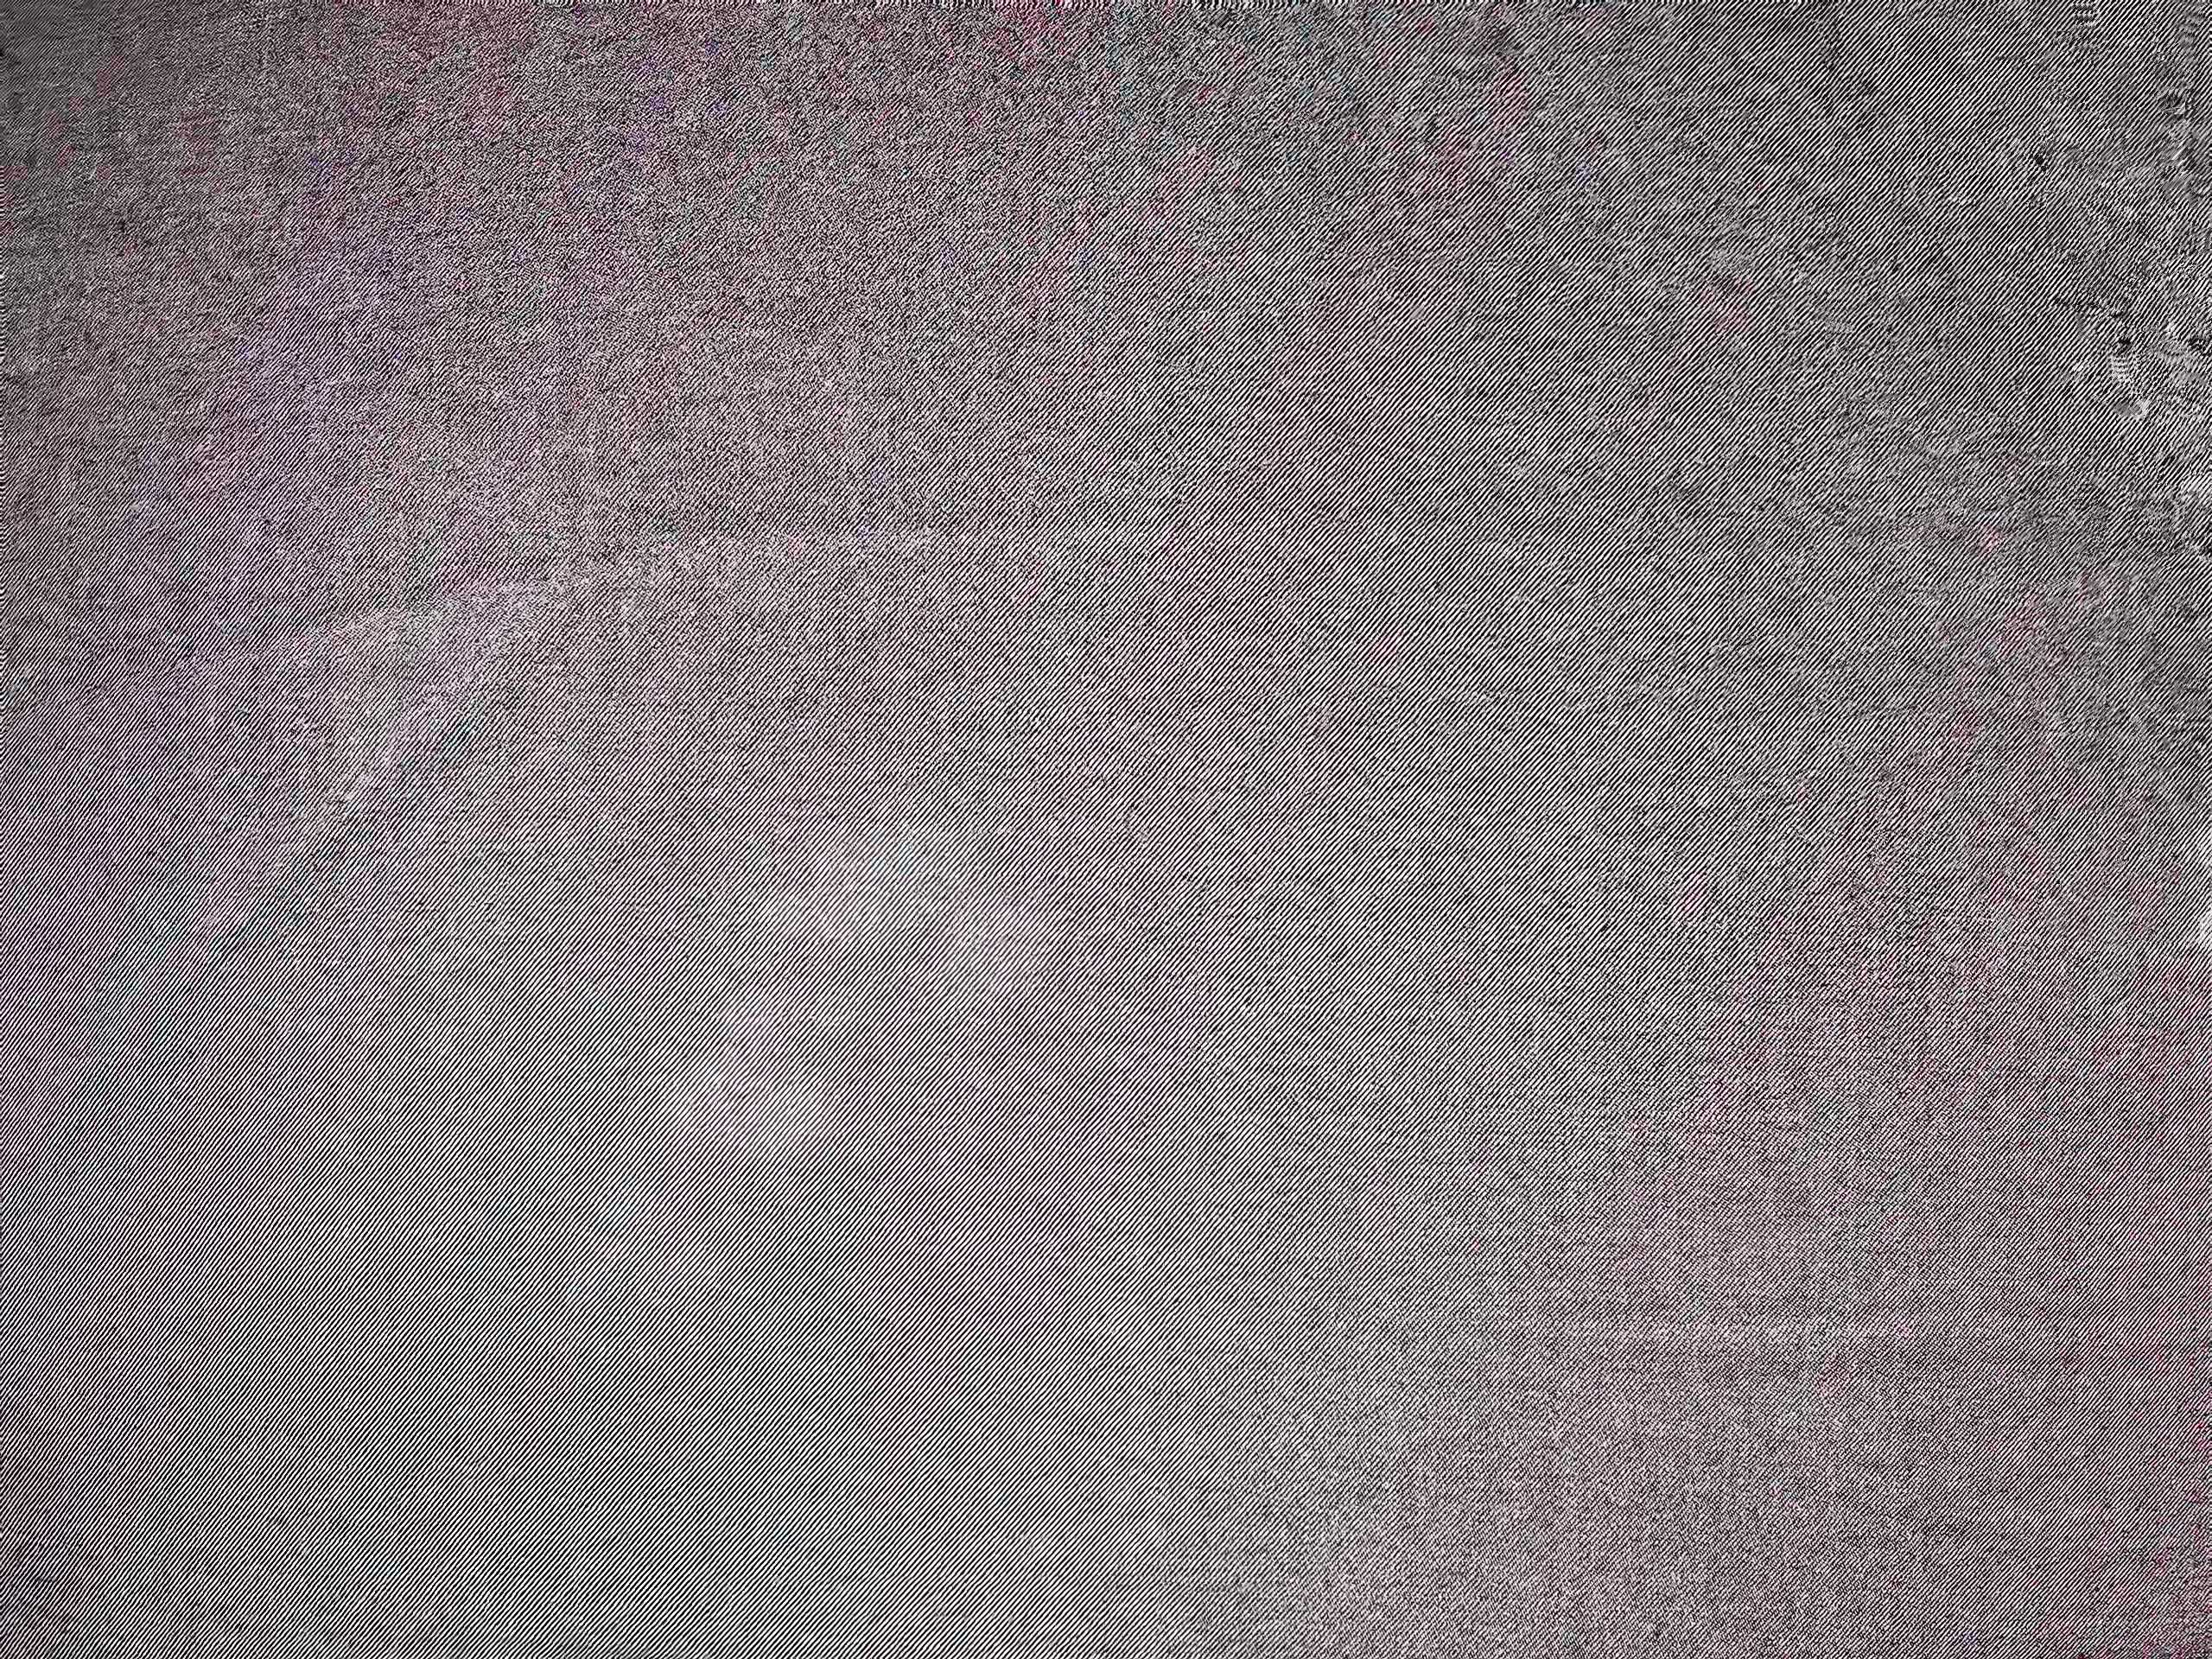stains: (504, 764, 1135, 1304)
